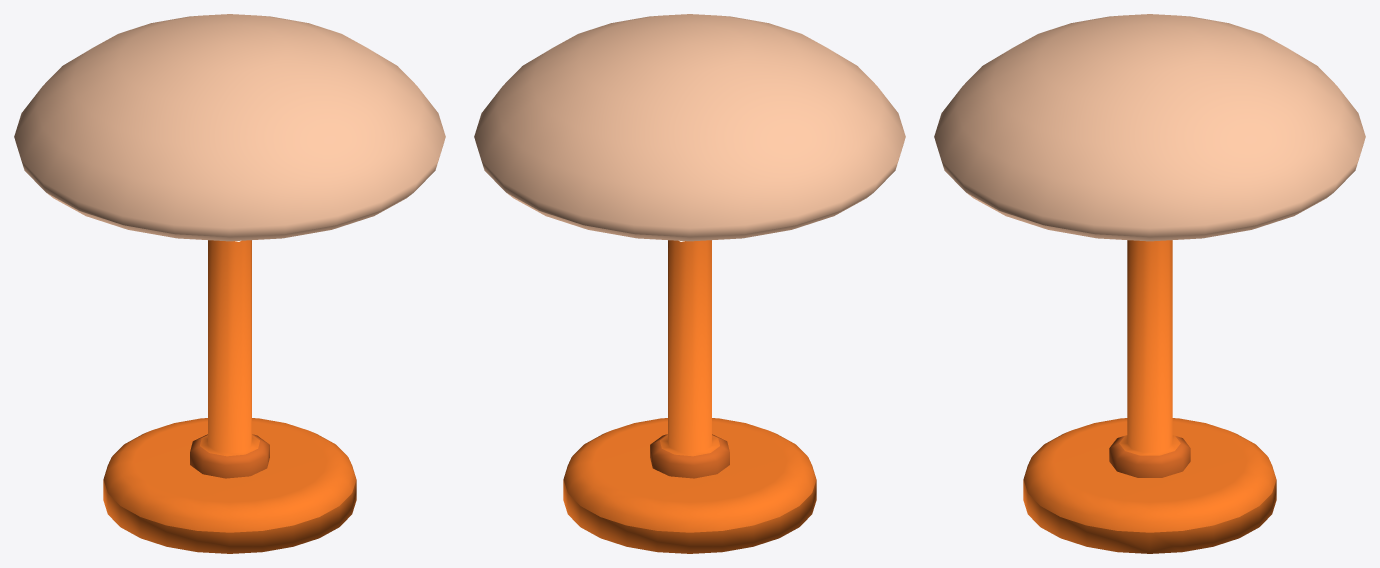
The model's file is luminaria_natal_mesa_cogumelo_pacote.glb.
The picture shows the model from 3 angles, left to right: view 1: azimuth 30°, elevation 25°; view 2: azimuth 150°, elevation 25°; view 3: azimuth 270°, elevation 25°; orthographic projection.
Parts seen in each view (by area): view 1: luminaria_natal_mesa_cogumelo_pacote; view 2: luminaria_natal_mesa_cogumelo_pacote; view 3: luminaria_natal_mesa_cogumelo_pacote.
Boxes of the visible parts, x1,y1,x2,y2 form: luminaria_natal_mesa_cogumelo_pacote: (14, 14, 445, 553); luminaria_natal_mesa_cogumelo_pacote: (474, 14, 905, 553); luminaria_natal_mesa_cogumelo_pacote: (934, 14, 1365, 553).
Bounding box in the file's own units: 0.3339 × 0.3892 × 0.3339.
Materials: 2 (1 with a texture image).
